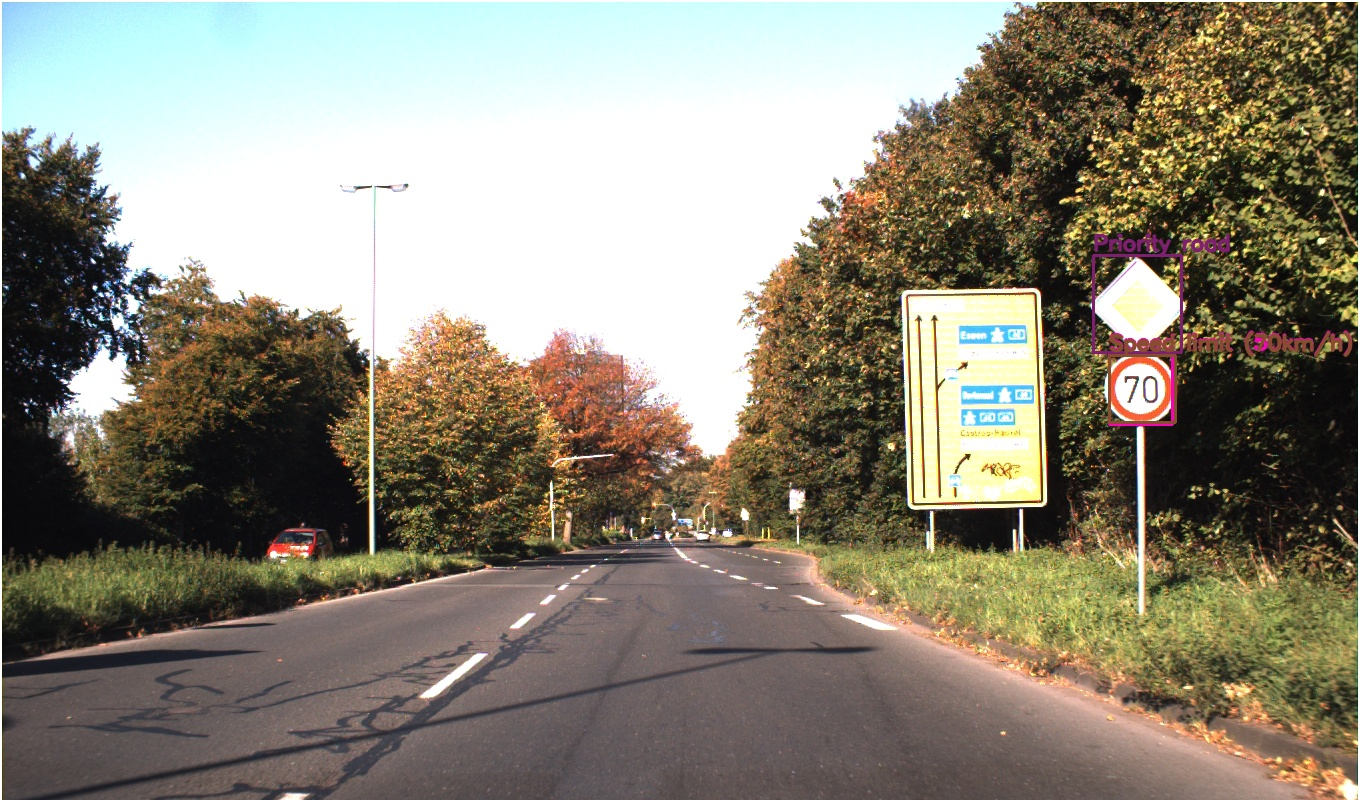Turn right ahead: (1040, 310, 1130, 400)
Yield: (1017, 202, 1141, 313)
